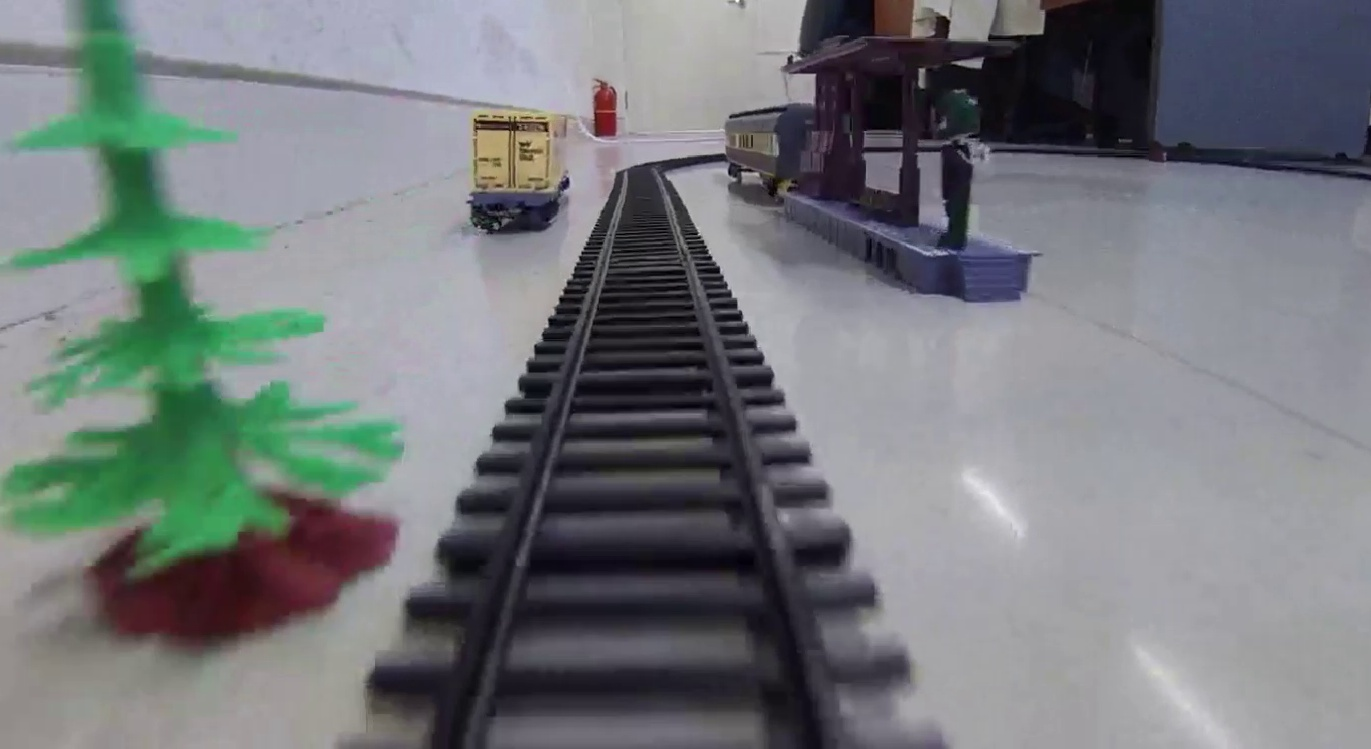people: (931, 90, 988, 252)
tree: (1, 1, 402, 645)
